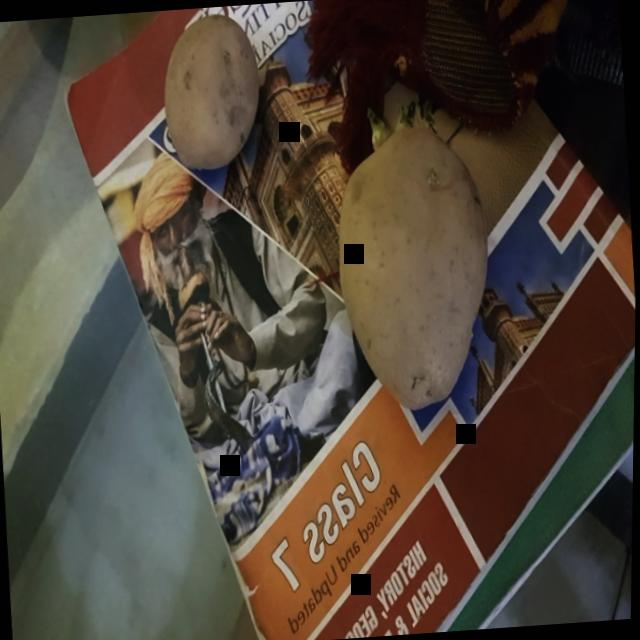potato: (331, 110, 503, 409), (152, 4, 269, 175)
